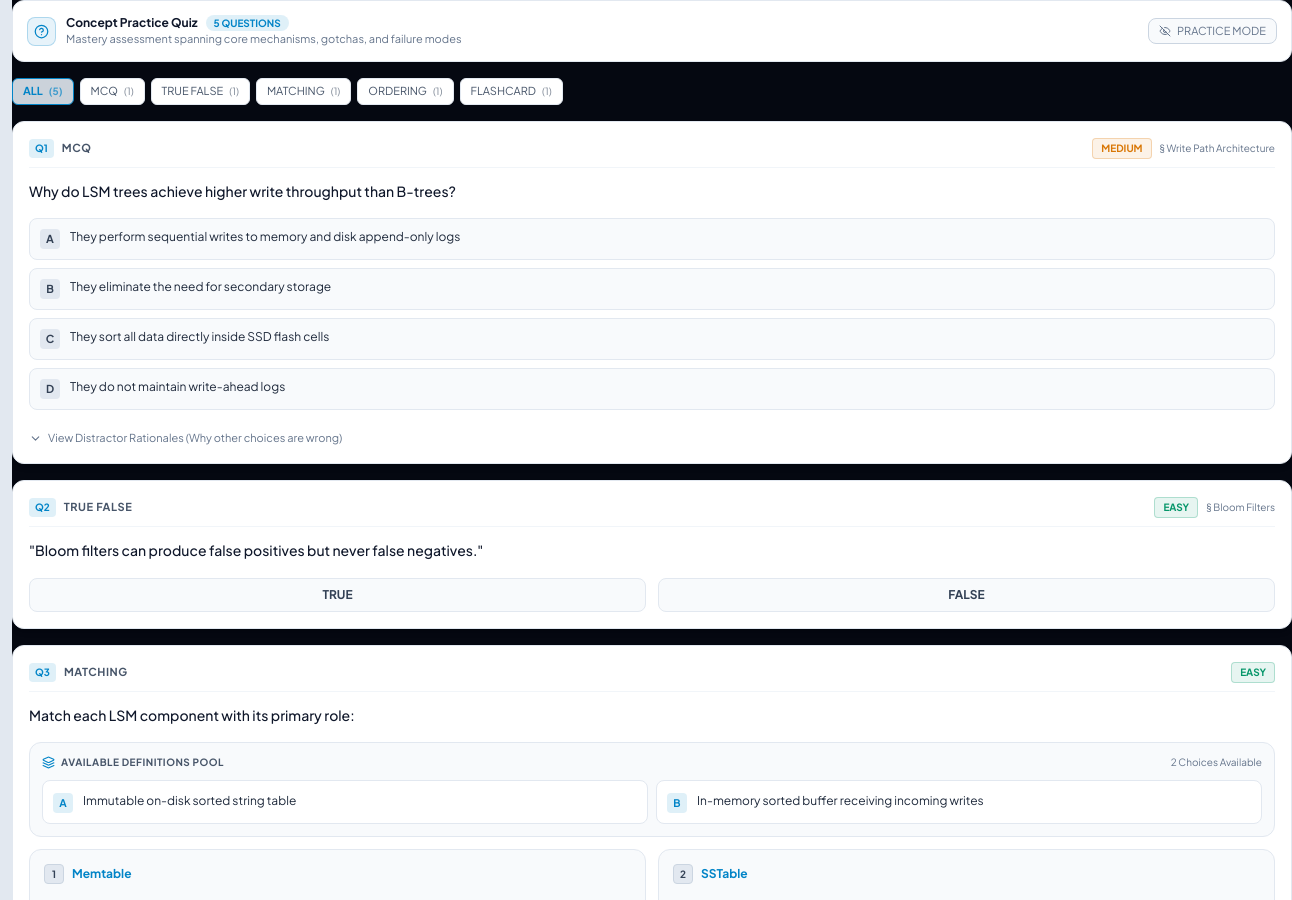
QuizViewer Component › toggles between PRACTICE MODE and AUDIT MODE
Note: Defaults to PRACTICE MODE
Click the button "PRACTICE MODE": click(1212, 31) [1148,18,1277,44]
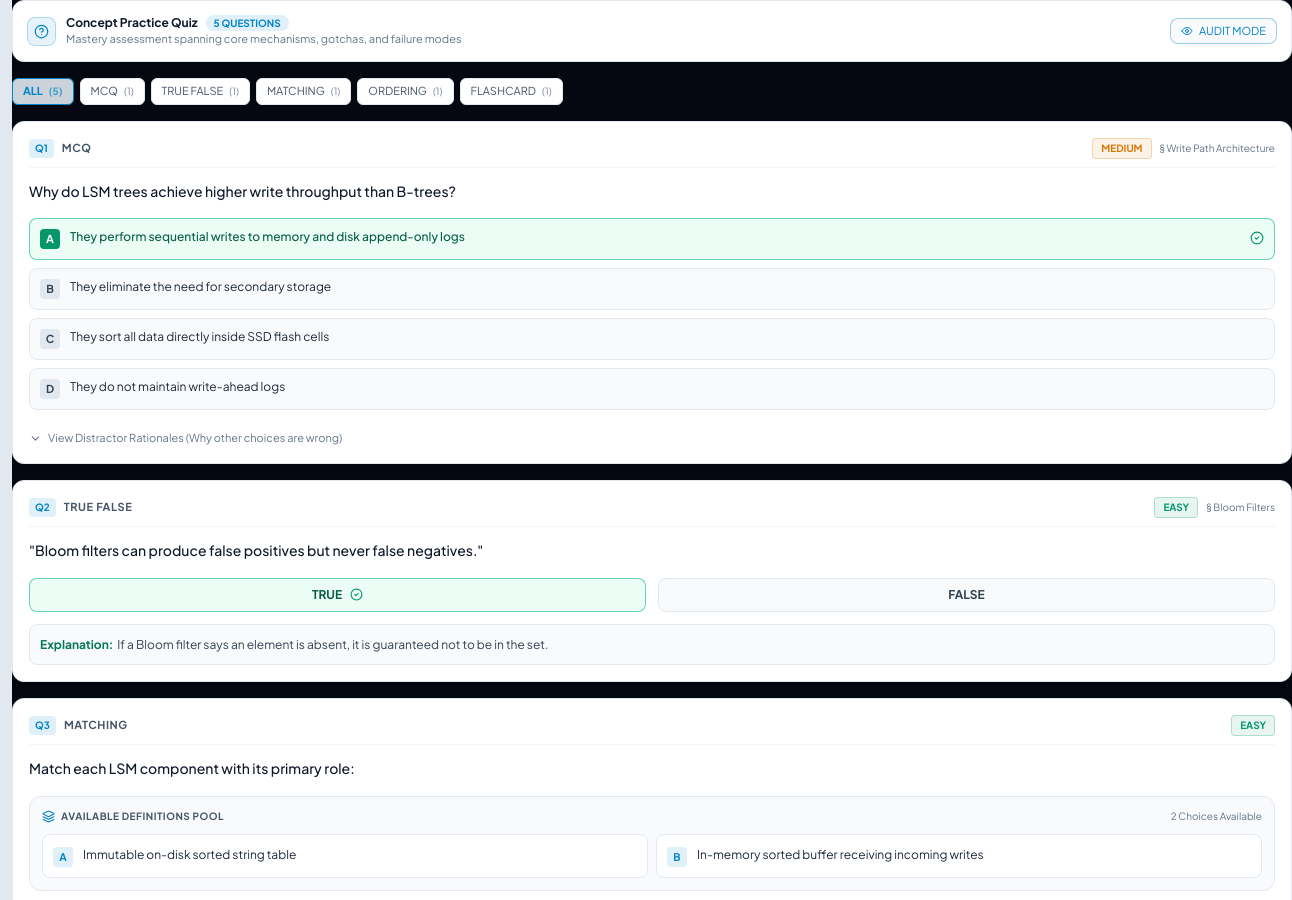
expect the text "AUDIT MODE" is shown: met, box [1199,23,1266,39]
expect the text "If a Bloom filter says an element is absent" is shown: met, box [117,636,548,652]
